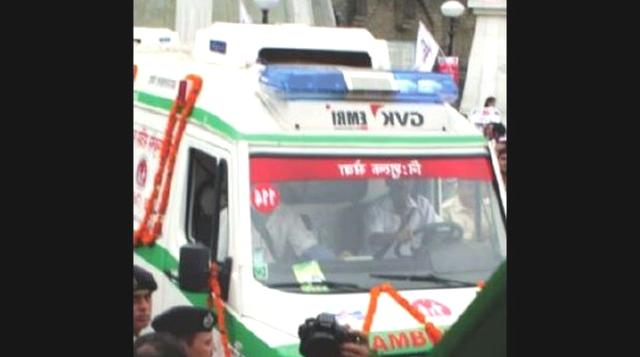ambulance: (132, 29, 507, 355)
